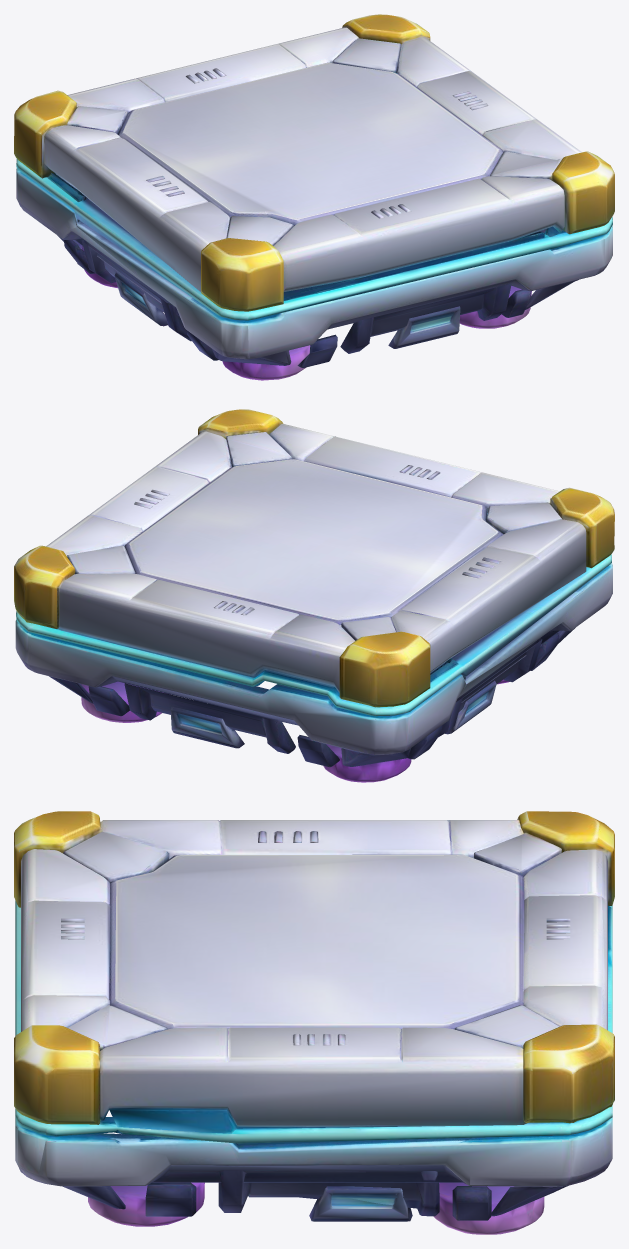
The model's file is plataforma.glb.
The picture shows the model from 3 angles, top to bottom: view 1: azimuth 30°, elevation 25°; view 2: azimuth 150°, elevation 25°; view 3: azimuth 270°, elevation 25°; orthographic projection. The views are drawn at different scales.
Parts seen in each view (by area): view 1: tripo_node_99b3316f-0b79-4bc4-8c05-f18147c676ff; view 2: tripo_node_99b3316f-0b79-4bc4-8c05-f18147c676ff; view 3: tripo_node_99b3316f-0b79-4bc4-8c05-f18147c676ff.
Boxes of the visible parts, x1=… form: tripo_node_99b3316f-0b79-4bc4-8c05-f18147c676ff: x1=14, y1=14, x2=614, y2=380; tripo_node_99b3316f-0b79-4bc4-8c05-f18147c676ff: x1=14, y1=409, x2=614, y2=782; tripo_node_99b3316f-0b79-4bc4-8c05-f18147c676ff: x1=14, y1=811, x2=614, y2=1234.
Size of the model in its own units: 0.5241 by 0.2 by 0.5241.
1 material, 1 textured.
